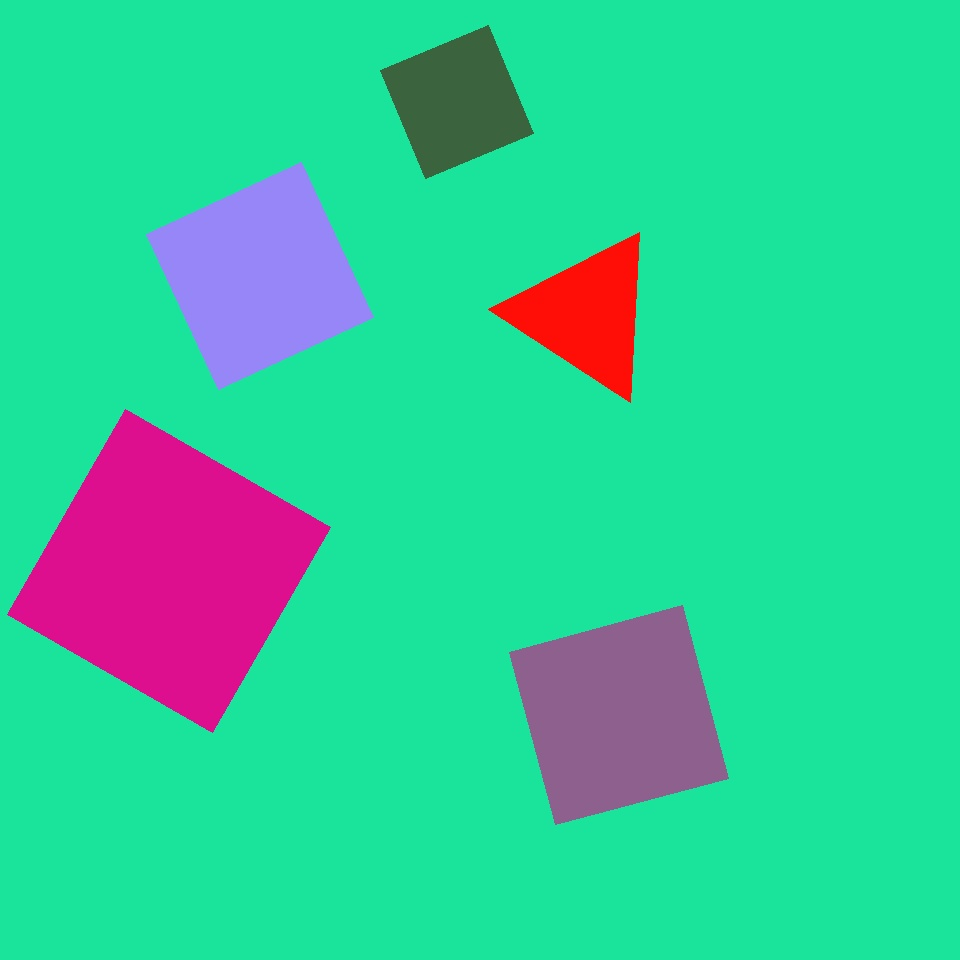circle: (511, 230, 662, 400)
square: (8, 410, 330, 732), (146, 162, 374, 390), (510, 606, 728, 824), (380, 26, 534, 178)
